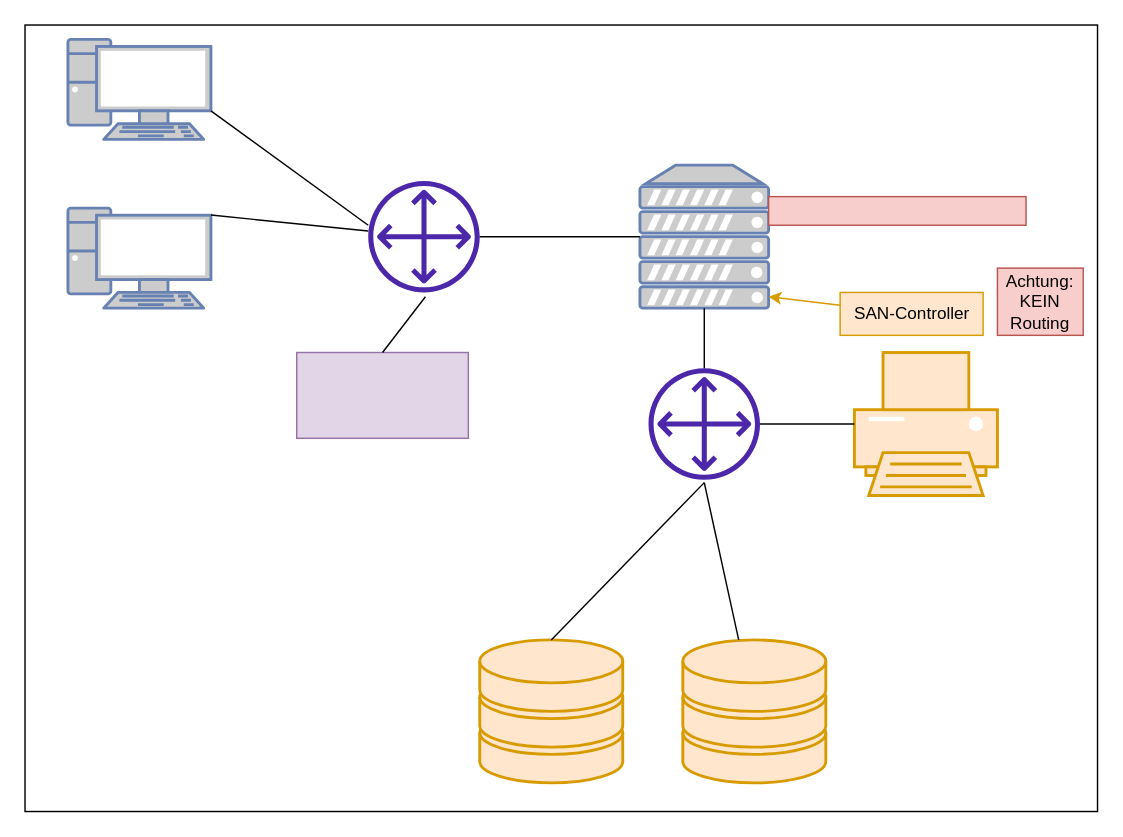
The diagram is 1123 pixels wide and 837 high, and some of its shapes have lost their labels. Here are the shapes that lost their labels. From the top down, the centre of each, then its label:
At point 896,210: "DAS, z.B. USB-Stick, ...".
At point 381,394: "NAS".
